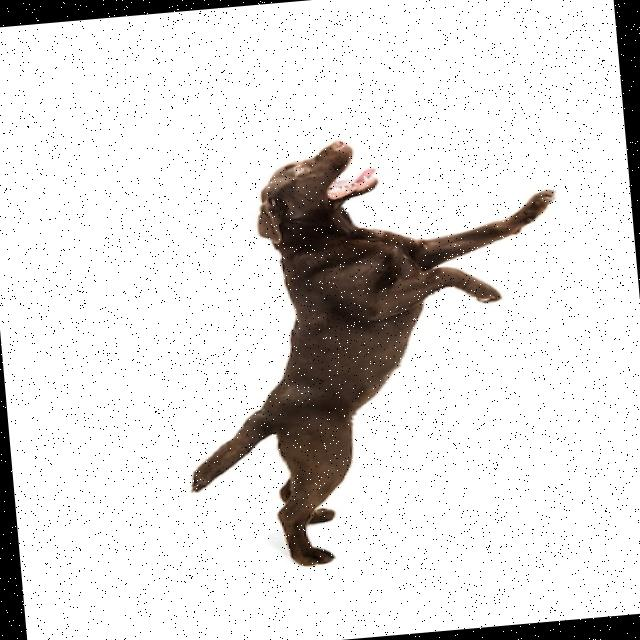Dog: (164, 121, 585, 578)
